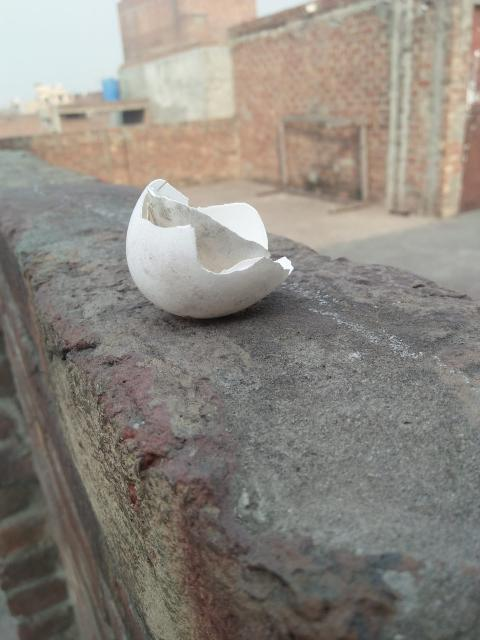Roto: (124, 177, 294, 320)
